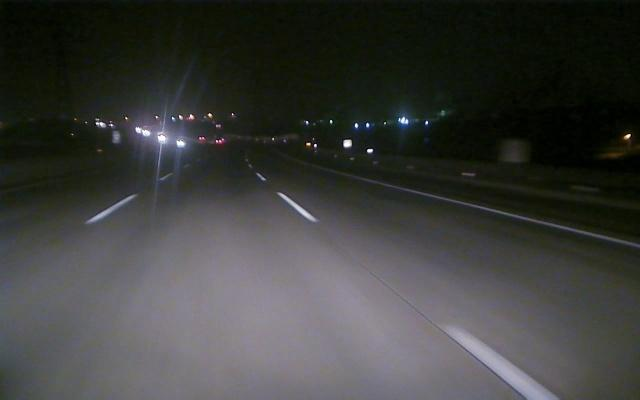lane: (257, 172, 565, 400), (346, 174, 638, 249), (83, 195, 138, 228)
